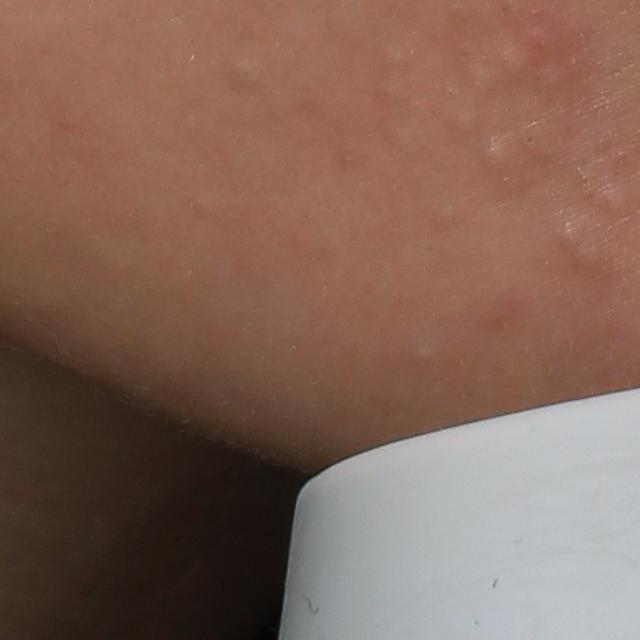comedo: (225, 52, 278, 96), (584, 178, 634, 223), (481, 135, 513, 172), (555, 222, 583, 247)
